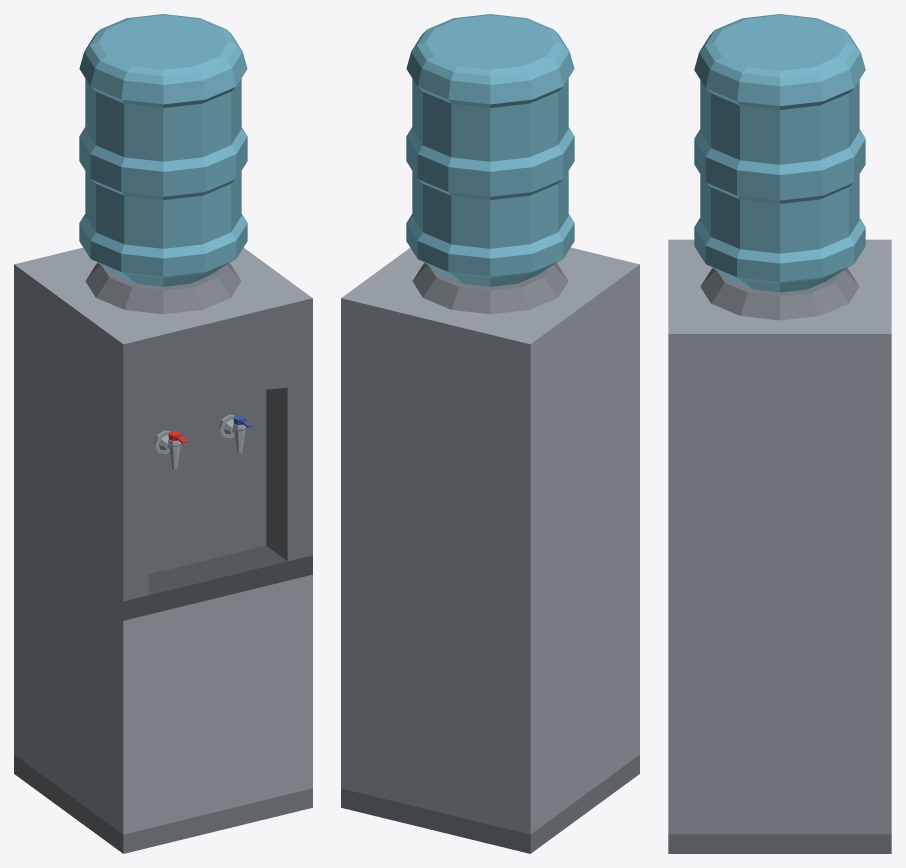
Rendered from SM_Props_WaterCooler_01.fbx.
3 views of the same model, side by side, from view 1: azimuth 30°, elevation 25°; view 2: azimuth 150°, elevation 25°; view 3: azimuth 270°, elevation 25° (orthographic). The views are drawn at different scales.
Visible parts, largest first — view 1: SM_Props_WaterCooler_01; view 2: SM_Props_WaterCooler_01; view 3: SM_Props_WaterCooler_01.
Boxes of the visible parts, x1,y1,x2,y2 form: SM_Props_WaterCooler_01: [14, 14, 312, 853]; SM_Props_WaterCooler_01: [341, 14, 639, 853]; SM_Props_WaterCooler_01: [668, 14, 891, 853].
Size of the model in its own units: 0.35 by 1.32 by 0.35.
